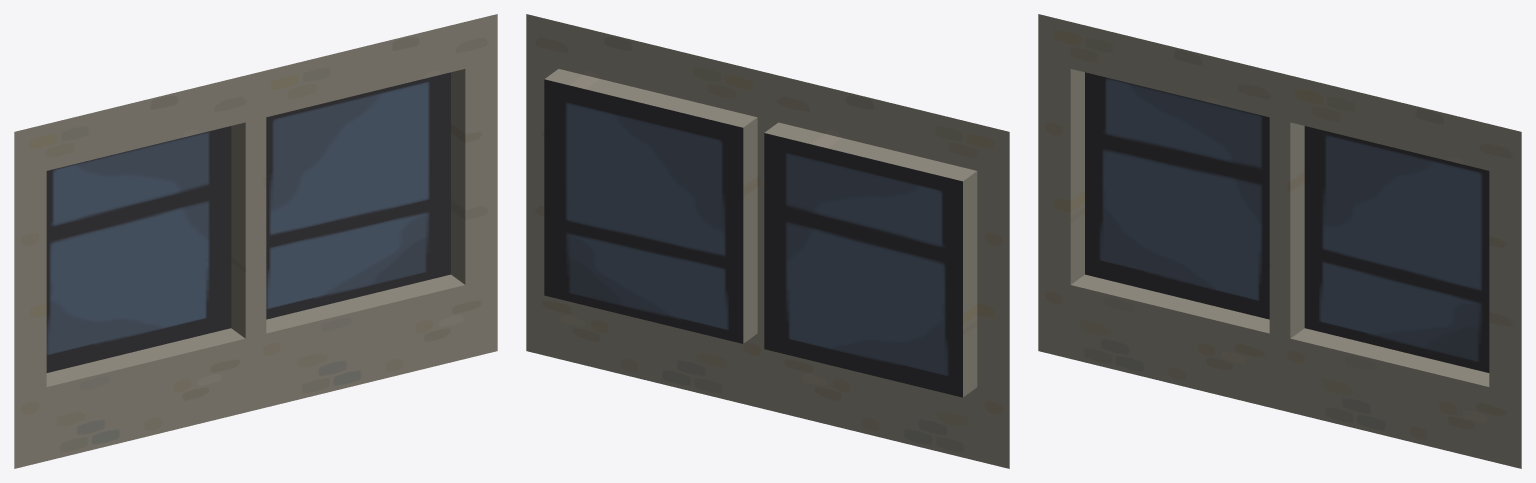
The model's file is Block_A04(0).fbx.
The picture shows the model from 3 angles, left to right: view 1: azimuth 30°, elevation 25°; view 2: azimuth 150°, elevation 25°; view 3: azimuth 330°, elevation 25°; orthographic projection.
Visible parts, largest first — view 1: Block_A04; view 2: Block_A04; view 3: Block_A04.
Part boxes in pixels (x1,y1,x2,y2): Block_A04: [14, 14, 497, 468]; Block_A04: [526, 14, 1009, 468]; Block_A04: [1038, 14, 1521, 468].
Bounding box in the file's own units: 600 × 400 × 30.8.
